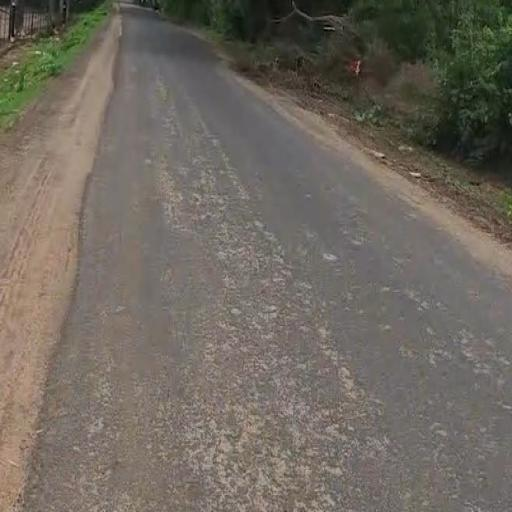ravelling: (147, 108, 412, 492)
